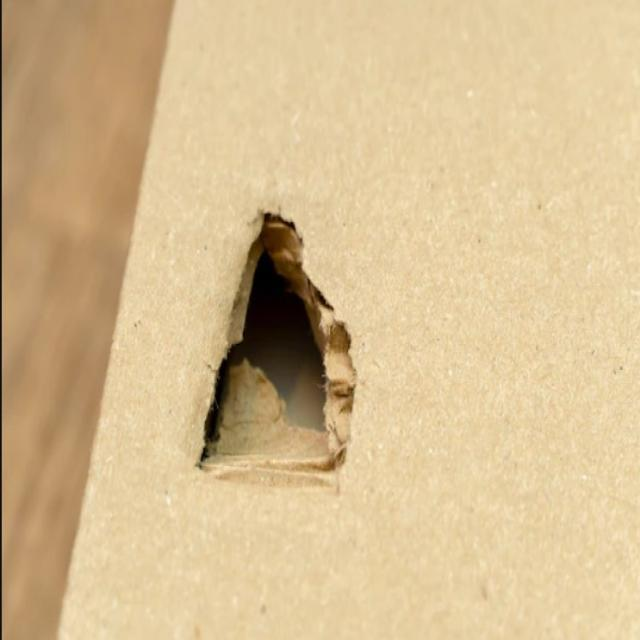damaged: (193, 205, 395, 518)
